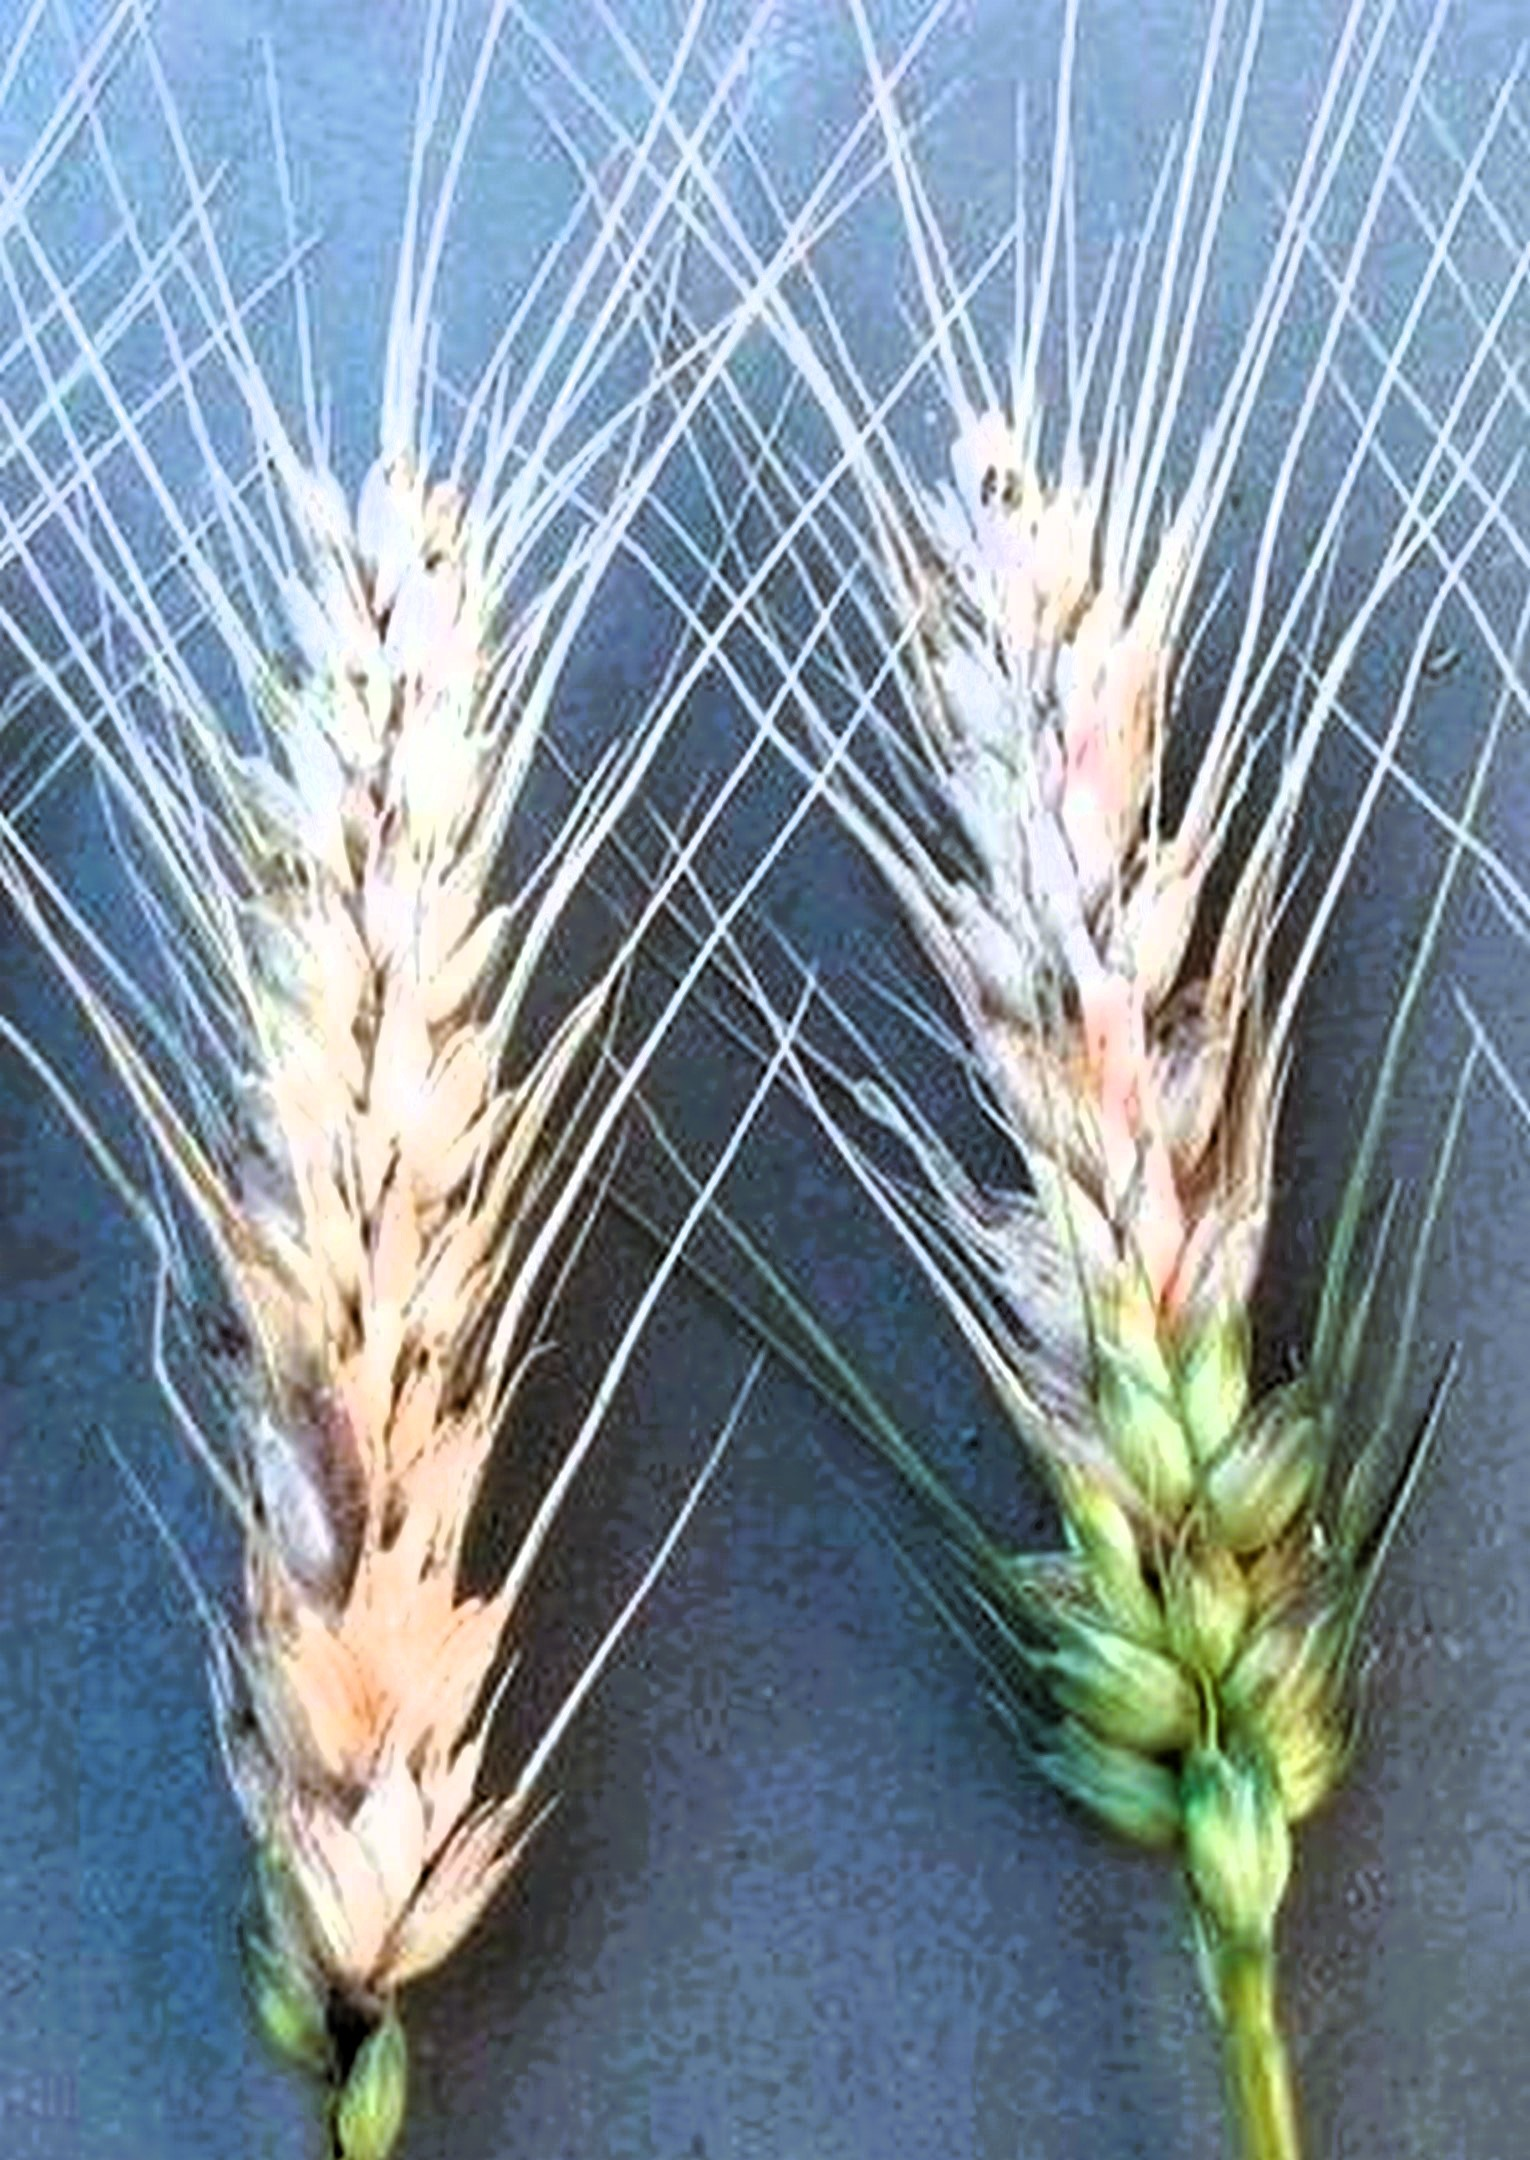Wheat scab: (853, 397, 1402, 1859)
